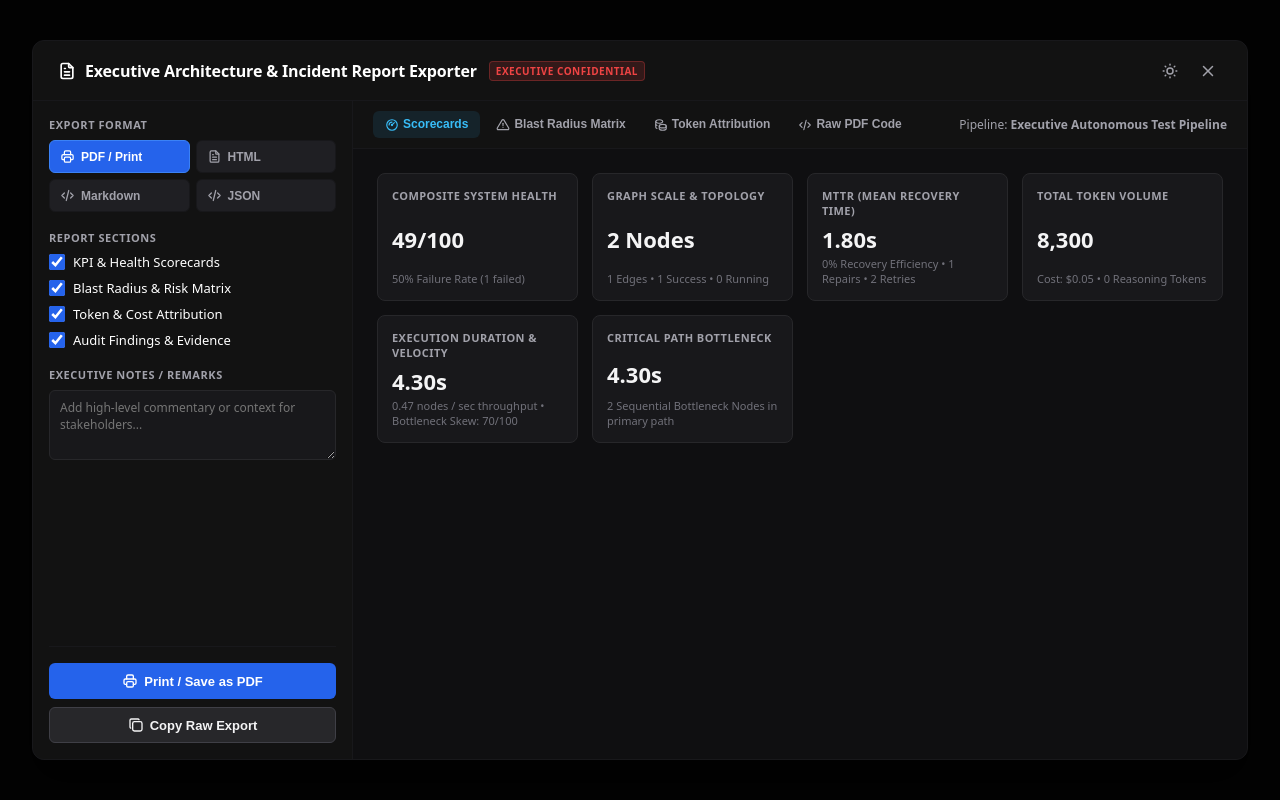
Executive Report Component Suite › ExecutiveReportModal Component › switches export format tabs and updates code preview
The width and height of the screenshot is (1280, 800).
Step 1. Click the tab with test id "tab-format-markdown" → [119, 196], box 49,179 -> 190,212
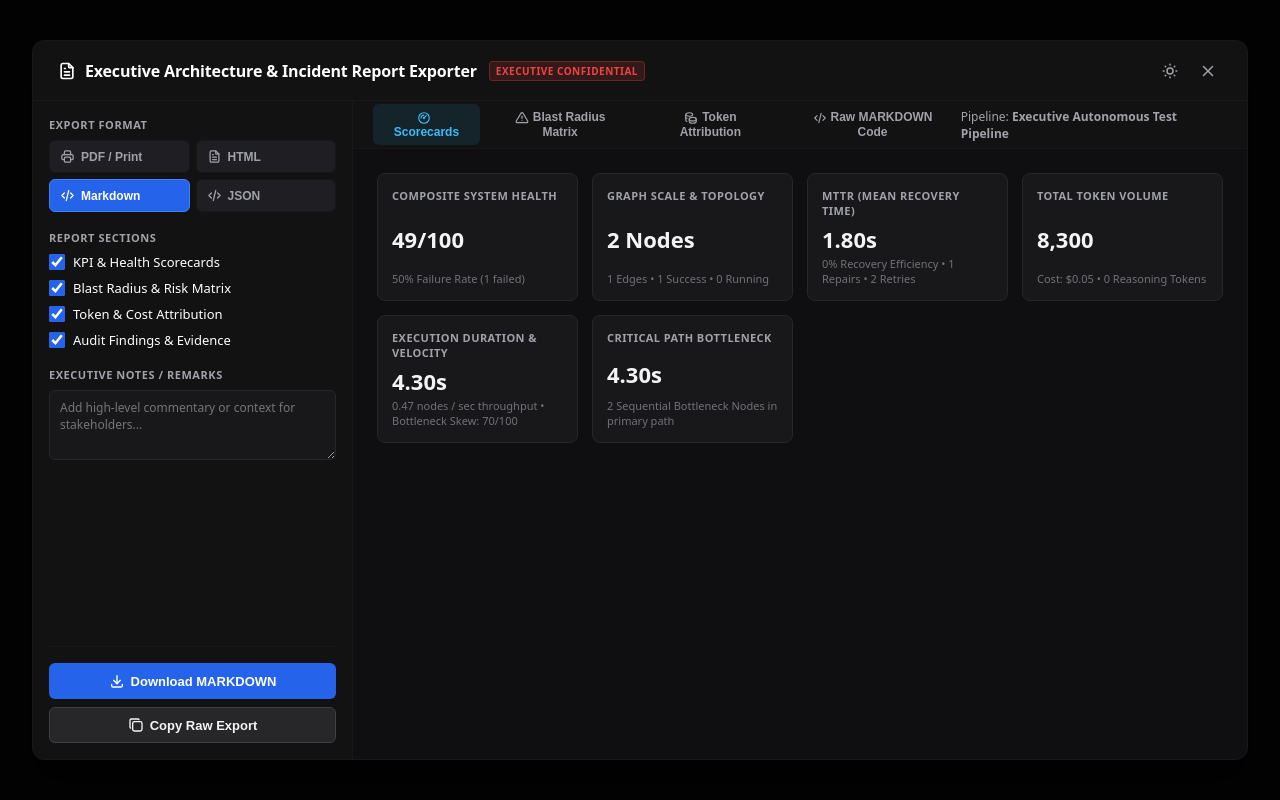
Step 2. Click the button with test id "tab-view-raw-code" → [872, 124], box 784,104 -> 961,145
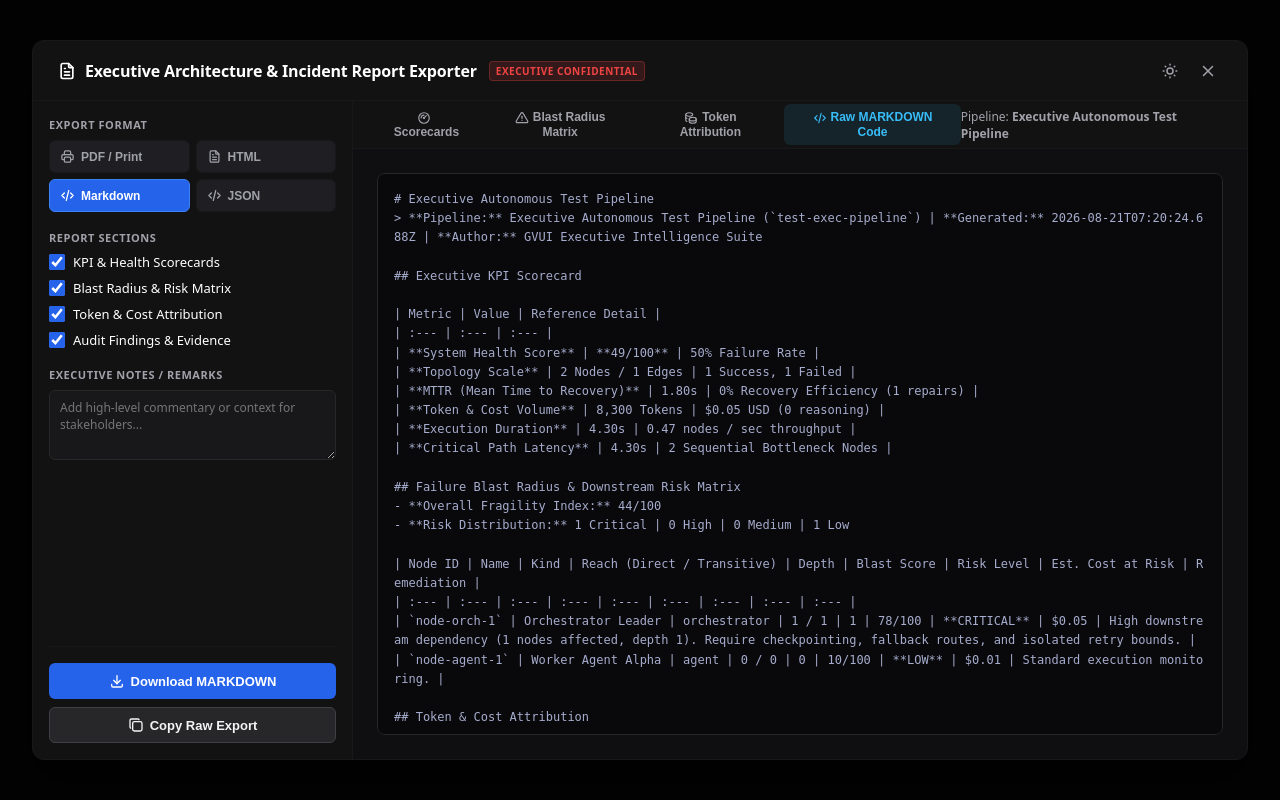
Expected: the element with test id "exec-code-preview" is shown, 377,173 -> 1223,735
